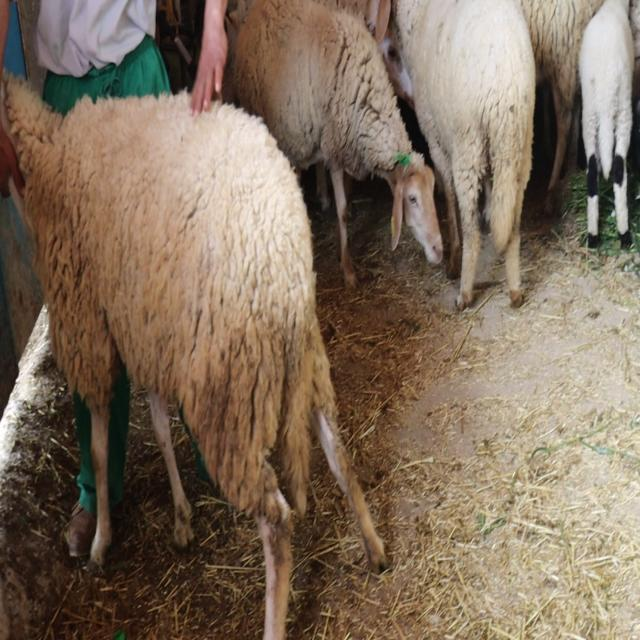Score_4: (5, 76, 389, 639)
